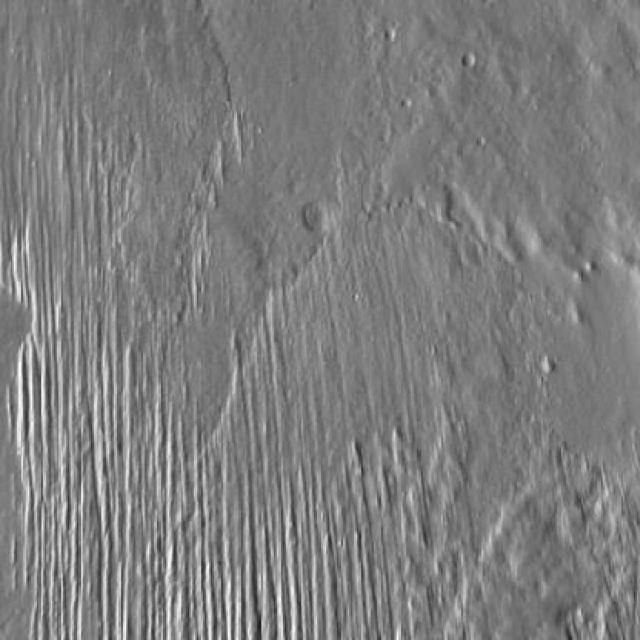crater: (305, 199, 333, 226)
